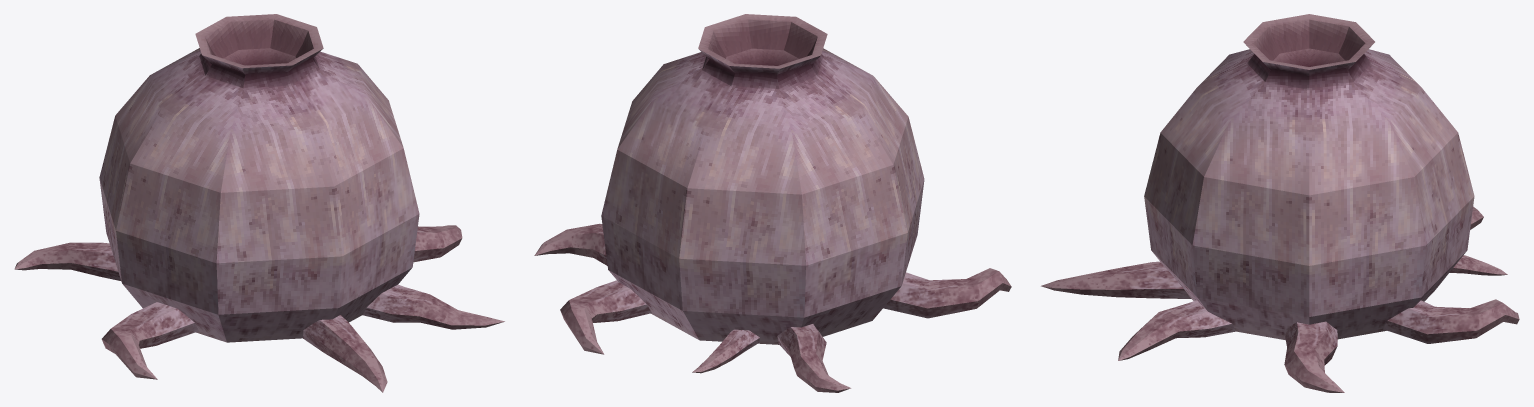
The model's file is fungus_spore_steam_01.fbx.
3 renders of one model, left to right at view 1: azimuth 30°, elevation 25°; view 2: azimuth 150°, elevation 25°; view 3: azimuth 270°, elevation 25°, orthographic.
Parts seen in each view (by area): view 1: body_2, pCone7, pCone3, pCone2, pCone4, pCone5; view 2: body_2, pCone7, pCone8, pCone4, pCone5, pCone6; view 3: body_2, pCone8, pCone2, pCone5, pCone3, pCone6.
Part boxes in pixels (x1,y1,x2,y2): body_2: (99,14,419,342); pCone7: (101,302,198,379); pCone3: (362,284,504,329); pCone2: (303,315,387,392); pCone4: (14,242,120,280); pCone5: (413,225,462,262); body_2: (601,14,924,344); pCone7: (883,268,1011,318); pCone8: (560,280,651,354); pCone4: (777,324,851,392); pCone5: (534,223,607,265); pCone6: (692,329,759,373); body_2: (1144,14,1474,339); pCone8: (1383,299,1519,343); pCone2: (1041,261,1191,298); pCone5: (1284,321,1344,392); pCone3: (1118,300,1235,360); pCone6: (1449,255,1507,275).
Bounding box in the file's own units: 1.86 × 1.11 × 1.93.
